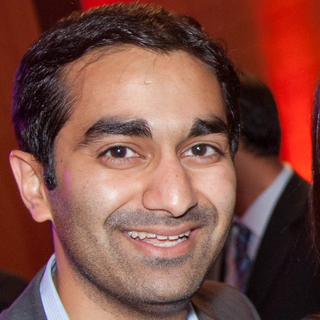eye: (95, 142, 147, 166), (173, 141, 226, 162)
